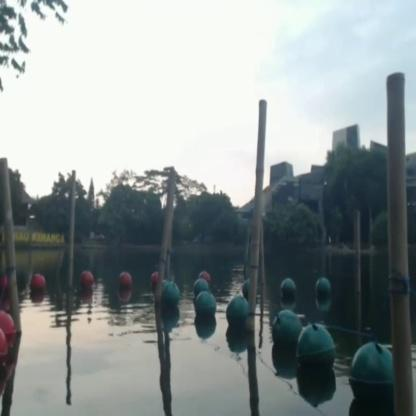green_buoy: (348, 342, 394, 415), (296, 320, 334, 380), (270, 312, 298, 358), (225, 295, 249, 330), (196, 290, 216, 326), (160, 280, 180, 312), (313, 278, 331, 306), (280, 275, 296, 302), (193, 277, 206, 295)
red_buoy: (0, 312, 15, 354), (30, 274, 46, 300), (80, 272, 94, 298), (117, 270, 132, 294)
